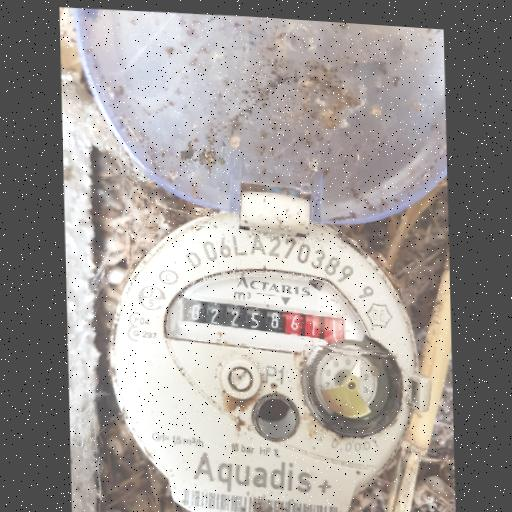0: (183, 298, 204, 324)
1: (321, 316, 345, 345), (303, 313, 323, 338)
2: (222, 303, 245, 329), (202, 300, 224, 326)
5: (243, 305, 265, 331)
6: (282, 311, 305, 337)
8: (263, 307, 284, 334)
border_water_meter_number: (179, 287, 349, 352)
